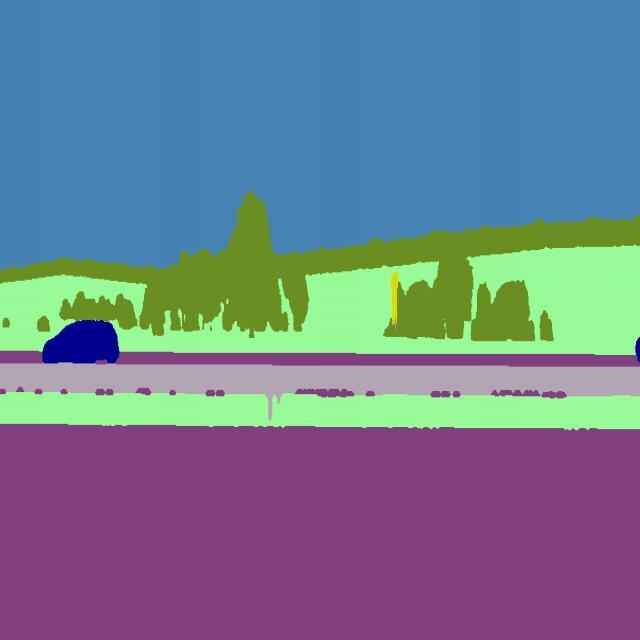safe: (40, 316, 123, 370)
